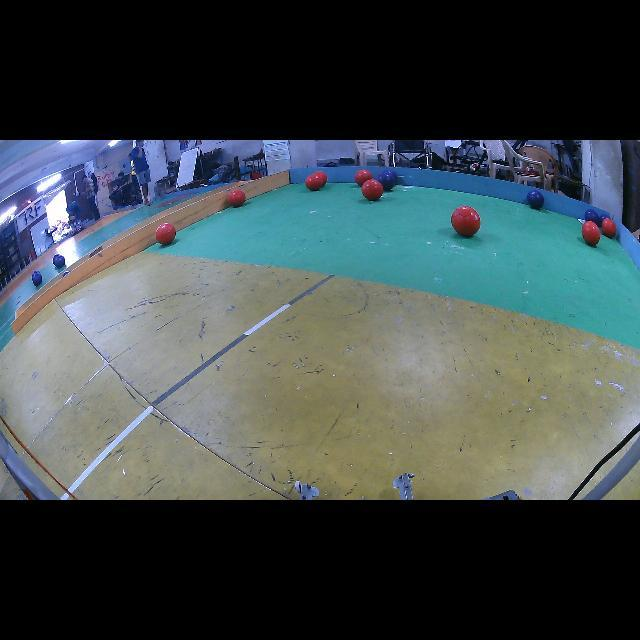P: (376, 170, 396, 191), (528, 190, 544, 210), (584, 209, 600, 224), (382, 170, 398, 184), (52, 255, 65, 268), (32, 271, 42, 286), (600, 214, 610, 226)
R: (451, 206, 481, 236), (361, 179, 384, 201), (581, 221, 601, 246), (155, 222, 176, 245), (601, 218, 616, 239), (229, 190, 246, 208), (305, 174, 322, 191), (355, 170, 372, 186), (314, 171, 328, 186)
